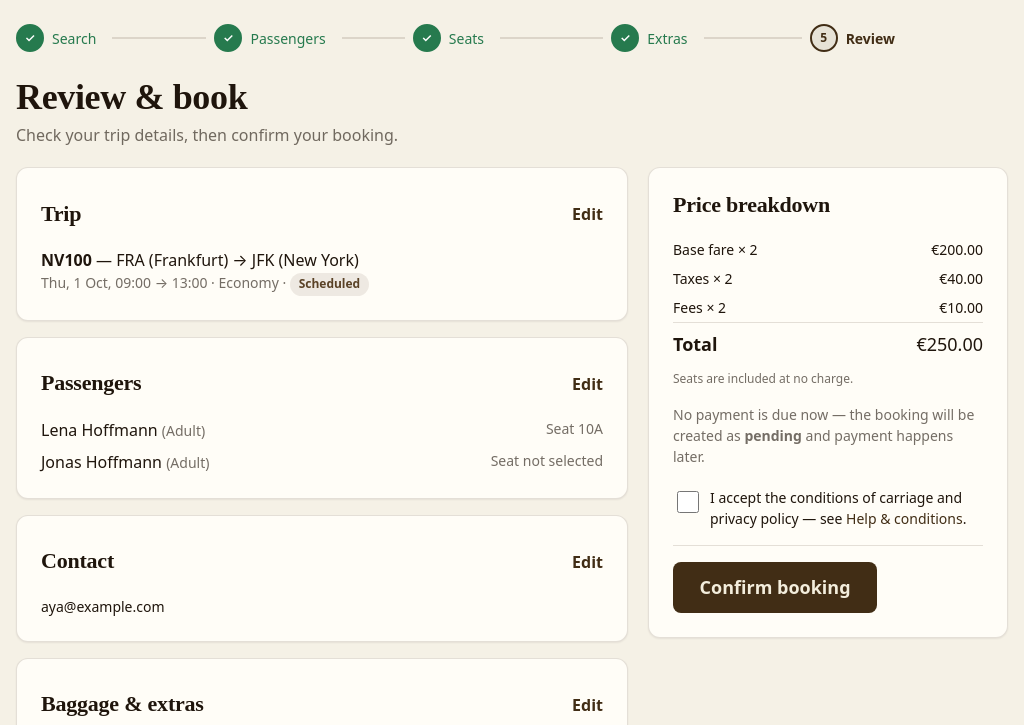
Test: ReviewPage › shows a retryable generic error on unexpected failures
Click the checkbox with id "consent" at (688, 502), box [677,491,699,513]
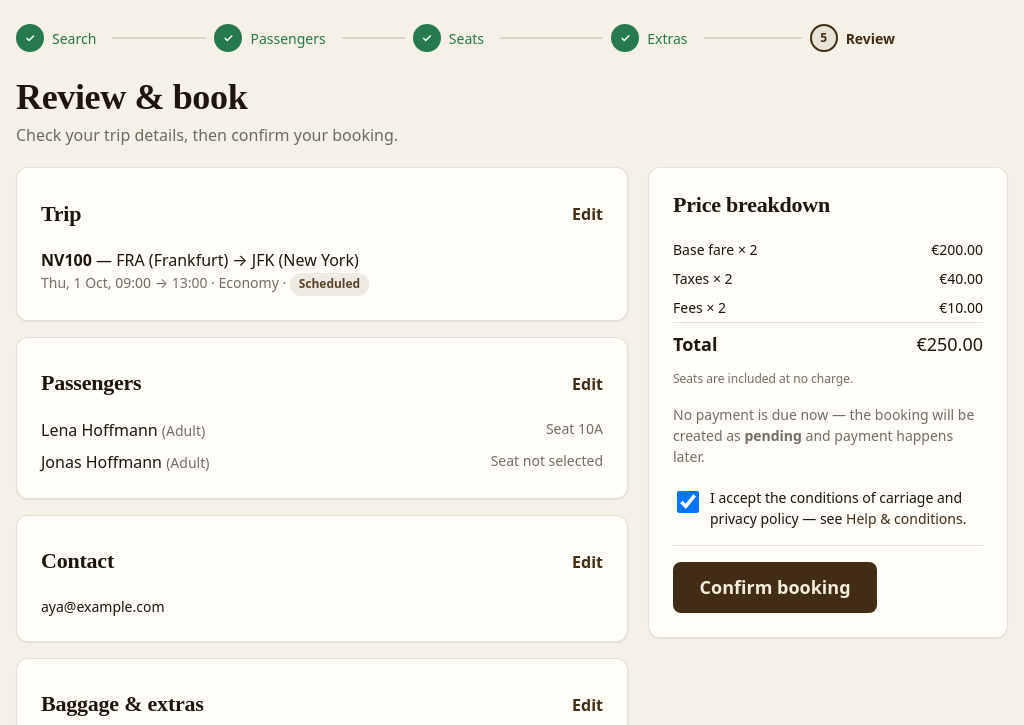
Click the button "Confirm booking" at (775, 587), box [673,562,877,613]
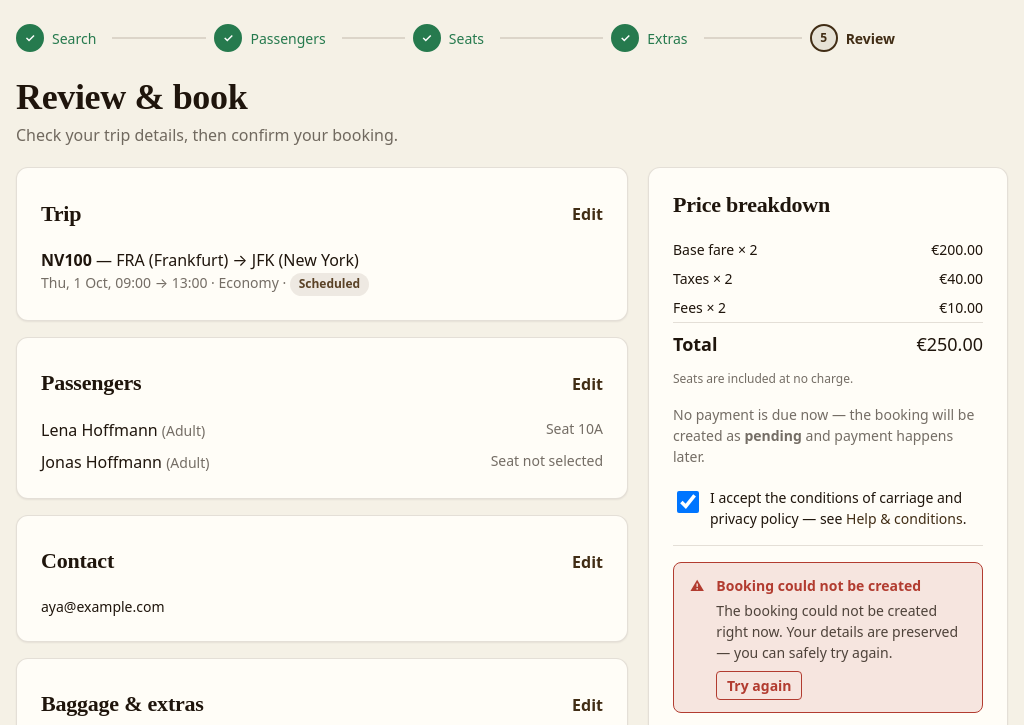
Check: the text "could not be created" is shown, box [716,576,921,595]
Check: the button with class "alert__retry" is shown, box [716,671,802,700]
